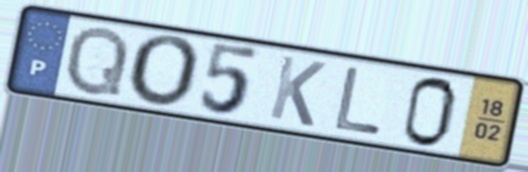0: (399, 74, 462, 149)
5: (198, 41, 265, 119)
K: (265, 52, 330, 130)
L: (331, 64, 385, 138)
O: (126, 32, 205, 112)
Q: (61, 23, 132, 98)
